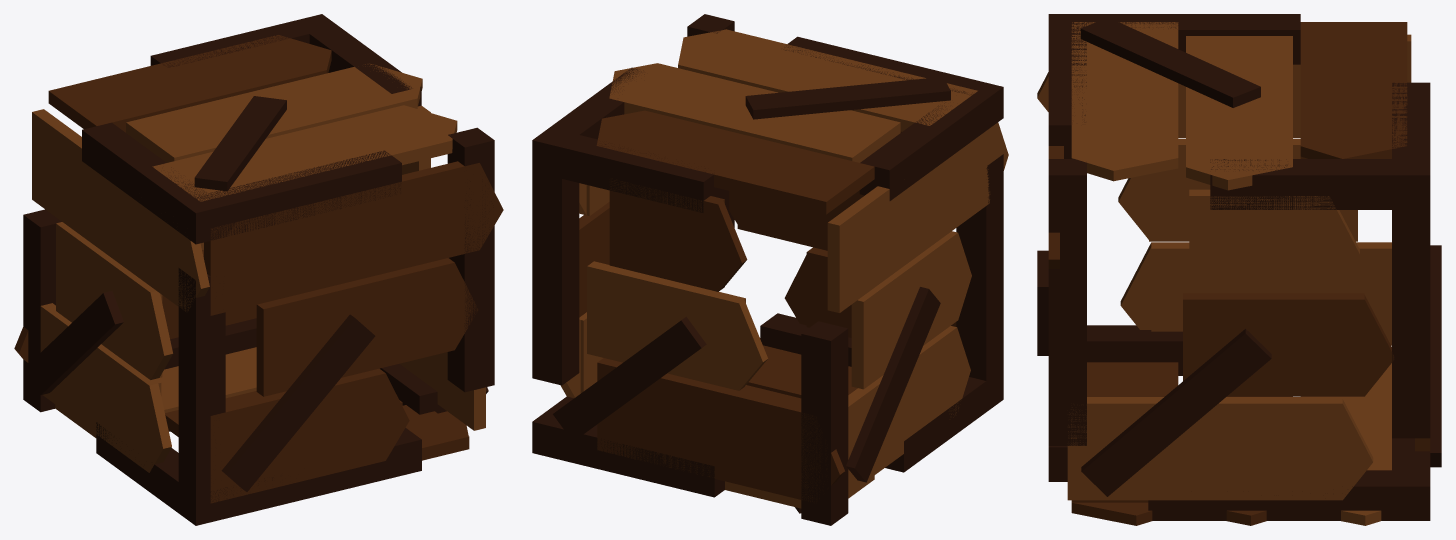
Rendered from SM_Int_Crate_Destructible_Fractured.glb.
3 views of the same model, side by side, from view 1: azimuth 30°, elevation 25°; view 2: azimuth 150°, elevation 25°; view 3: azimuth 270°, elevation 25° (orthographic). The views are drawn at different scales.
Parts seen in each view (by area): view 1: SM_Int_Crate_Destructible_Piece_2_Front, SM_Int_Crate_Destructible_Piece_1_Top, SM_Int_Crate_Destructible_Piece_4_Left, SM_Int_Crate_Destructible_Piece_5_RightBottom, SM_Int_Crate_Destructible_Piece_3_Back; view 2: SM_Int_Crate_Destructible_Piece_3_Back, SM_Int_Crate_Destructible_Piece_1_Top, SM_Int_Crate_Destructible_Piece_4_Left, SM_Int_Crate_Destructible_Piece_5_RightBottom, SM_Int_Crate_Destructible_Piece_2_Front; view 3: SM_Int_Crate_Destructible_Piece_5_RightBottom, SM_Int_Crate_Destructible_Piece_1_Top, SM_Int_Crate_Destructible_Piece_4_Left, SM_Int_Crate_Destructible_Piece_2_Front, SM_Int_Crate_Destructible_Piece_3_Back.
Boxes of the visible parts, bbox=[...] form: SM_Int_Crate_Destructible_Piece_2_Front: bbox=[178, 127, 503, 525]; SM_Int_Crate_Destructible_Piece_1_Top: bbox=[48, 14, 457, 244]; SM_Int_Crate_Destructible_Piece_4_Left: bbox=[29, 109, 209, 472]; SM_Int_Crate_Destructible_Piece_5_RightBottom: bbox=[55, 105, 488, 525]; SM_Int_Crate_Destructible_Piece_3_Back: bbox=[14, 14, 337, 412]; SM_Int_Crate_Destructible_Piece_3_Back: bbox=[532, 128, 848, 525]; SM_Int_Crate_Destructible_Piece_1_Top: bbox=[532, 29, 1003, 214]; SM_Int_Crate_Destructible_Piece_4_Left: bbox=[827, 122, 1008, 494]; SM_Int_Crate_Destructible_Piece_5_RightBottom: bbox=[532, 183, 1003, 513]; SM_Int_Crate_Destructible_Piece_2_Front: bbox=[687, 14, 1003, 409]; SM_Int_Crate_Destructible_Piece_5_RightBottom: bbox=[1048, 189, 1430, 525]; SM_Int_Crate_Destructible_Piece_1_Top: bbox=[1048, 14, 1430, 209]; SM_Int_Crate_Destructible_Piece_4_Left: bbox=[1037, 34, 1411, 345]; SM_Int_Crate_Destructible_Piece_2_Front: bbox=[1037, 146, 1086, 445]; SM_Int_Crate_Destructible_Piece_3_Back: bbox=[1392, 159, 1441, 467].
Size of the model in its own units: 1.06 by 1.06 by 1.06.
1 material, 1 textured.
